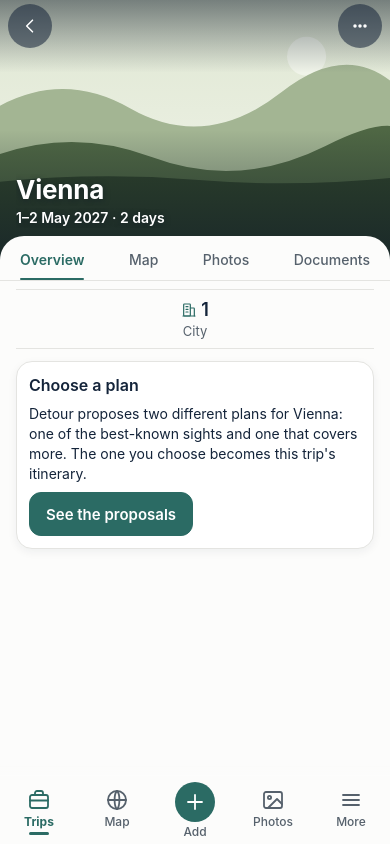
Test: without a chosen plan, places and restaurants wait for a plan
This screenshot has width=390, height=844.
Expected: the heading "Choose a plan" is shown, [29,375,139,395]
Click the button with aria-label "Add to this trip" at point(195, 811), box [156,782,234,840]
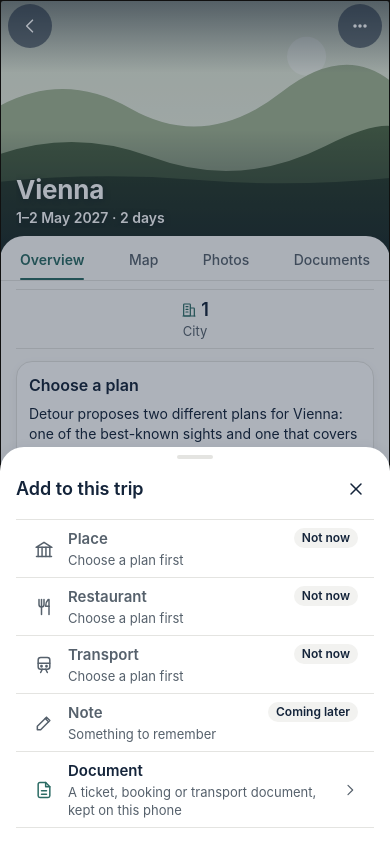
Now the number of buttons named "Close" is 2
Click the button named "Close" in the row of "Add to this trip" at point(356, 489), box [338,471,374,507]
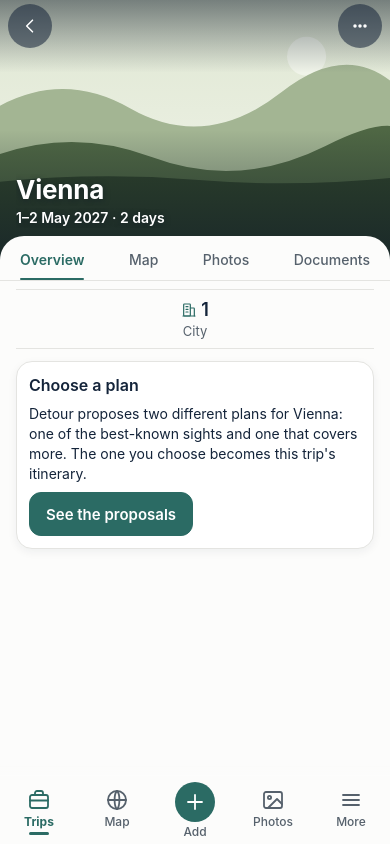
Expected: the heading "Choose a plan" is shown, [29,375,139,395]
Now the heading "Add to this trip" is gone
